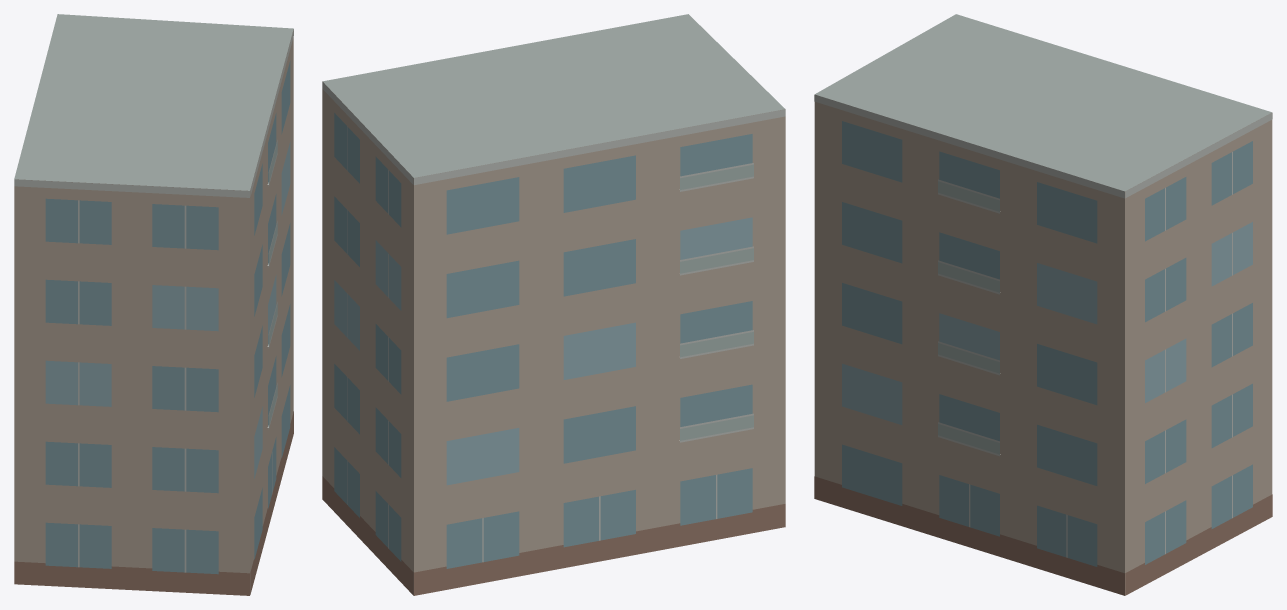
The model's file is survey-upis-32574825.glb.
3 views of the same model, side by side, from view 1: azimuth 30°, elevation 25°; view 2: azimuth 150°, elevation 25°; view 3: azimuth 270°, elevation 25° (orthographic). The views are drawn at different scales.
Visible parts, largest first — view 1: survey-upis-32574825.tmp; view 2: survey-upis-32574825.tmp; view 3: survey-upis-32574825.tmp.
Boxes of the visible parts, <box> form: survey-upis-32574825.tmp: <box>14,14,293,595</box>; survey-upis-32574825.tmp: <box>322,14,785,595</box>; survey-upis-32574825.tmp: <box>814,14,1272,595</box>.
Size of the model in its own units: 13.09 by 13.9 by 14.28.
